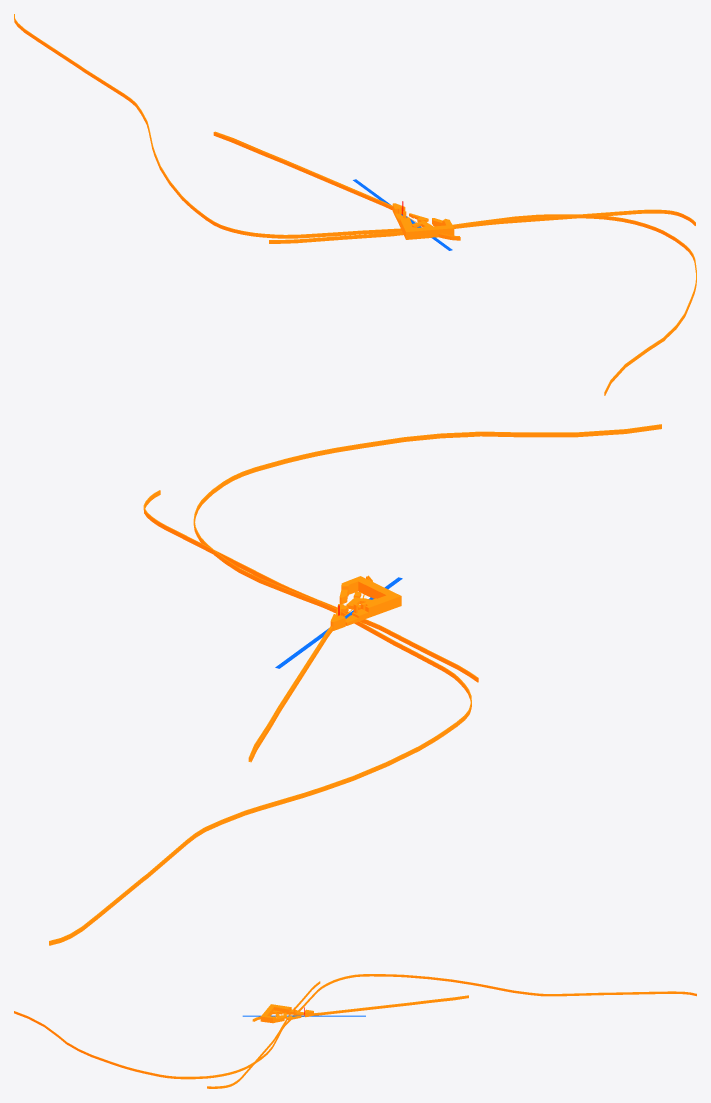
Rendered from 001-BakerSteetOvergroundGreyBlock.fbx.
3 views of the same model, one above another, from view 1: azimuth 30°, elevation 25°; view 2: azimuth 150°, elevation 25°; view 3: azimuth 270°, elevation 25° (orthographic). The views are drawn at different scales.
Visible parts, largest first — view 1: Tunnel Jubilee Line, Tunnel Bakerloo Line, Tunnel Metropolitan Line, Building Chiltern Court; view 2: Tunnel Jubilee Line, Tunnel Bakerloo Line, Building Chiltern Court, Tunnel Metropolitan Line; view 3: Tunnel Jubilee Line, Tunnel Metropolitan Line, Tunnel Bakerloo Line, Building Chiltern Court.
Part boxes in pixels (box(x1,y1,x2,y2)): Tunnel Jubilee Line: box(14, 14, 696, 395); Tunnel Bakerloo Line: box(269, 209, 695, 243); Tunnel Metropolitan Line: box(213, 131, 460, 240); Building Chiltern Court: box(399, 217, 447, 239); Tunnel Jubilee Line: box(49, 424, 661, 945); Tunnel Bakerloo Line: box(143, 490, 478, 682); Building Chiltern Court: box(358, 578, 401, 617); Tunnel Metropolitan Line: box(248, 575, 372, 761); Tunnel Jubilee Line: box(14, 974, 696, 1079); Tunnel Metropolitan Line: box(252, 995, 468, 1021); Tunnel Bakerloo Line: box(207, 981, 320, 1088); Building Chiltern Court: box(262, 1004, 291, 1016).
Bounding box in the file's own units: 42649 × 2455 × 109180.
